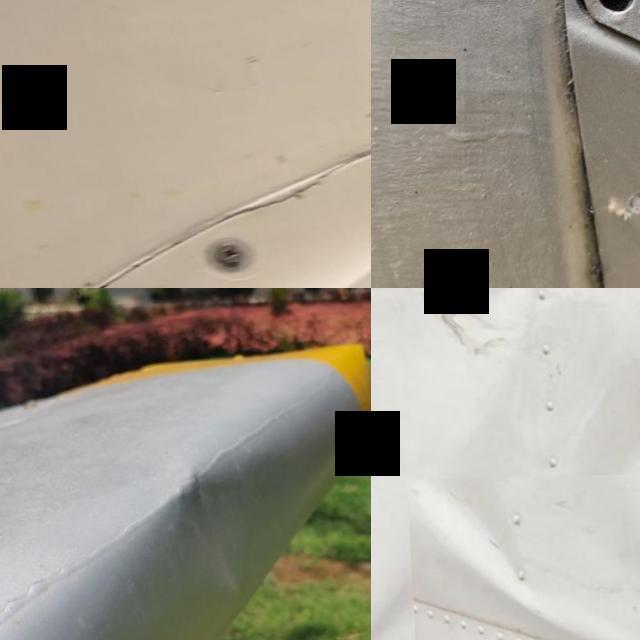Crack: (205, 172, 368, 222)
Dent: (404, 481, 640, 640), (144, 455, 266, 614), (371, 551, 447, 640)
Missing_Fastener: (551, 0, 640, 55)
